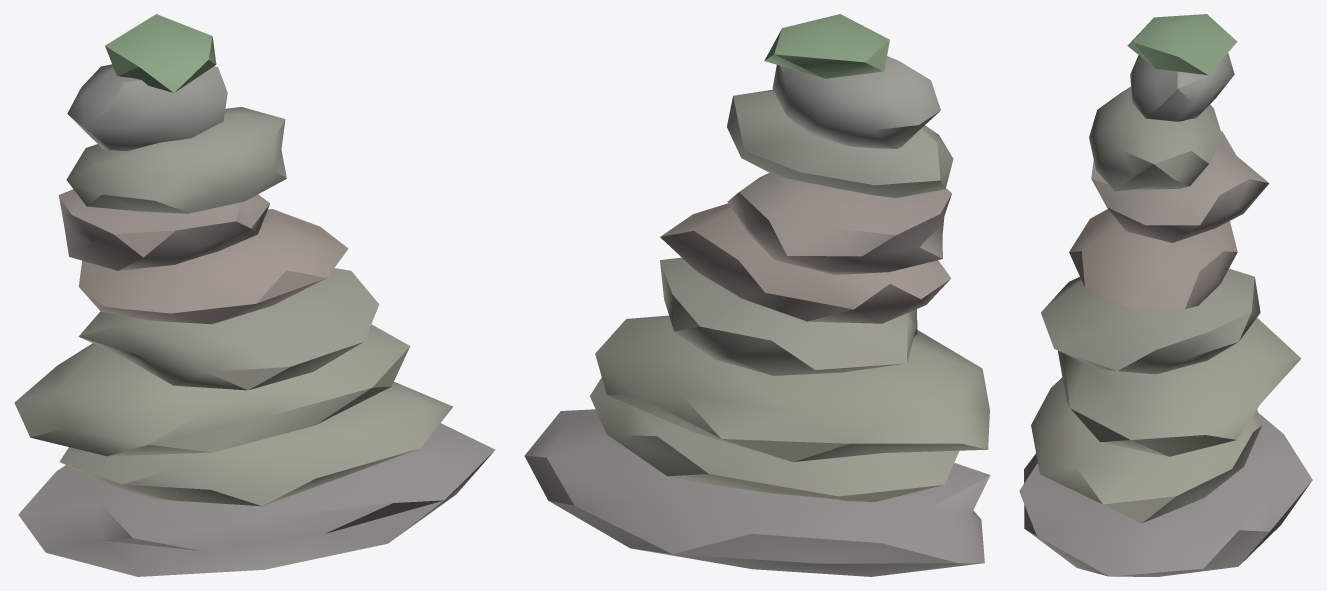
The model's file is outcrop_slabs.gltf.
The picture shows the model from 3 angles, left to right: view 1: azimuth 30°, elevation 25°; view 2: azimuth 150°, elevation 25°; view 3: azimuth 270°, elevation 25°; orthographic projection. The views are drawn at different scales.
Visible parts, largest first — view 1: Body; view 2: Body; view 3: Body.
Boxes of the visible parts, x1=… form: Body: x1=14, y1=14, x2=495, y2=576; Body: x1=524, y1=14, x2=990, y2=576; Body: x1=1019, y1=14, x2=1312, y2=576.
Size of the model in its own units: 6.42 by 7.1 by 4.11.
